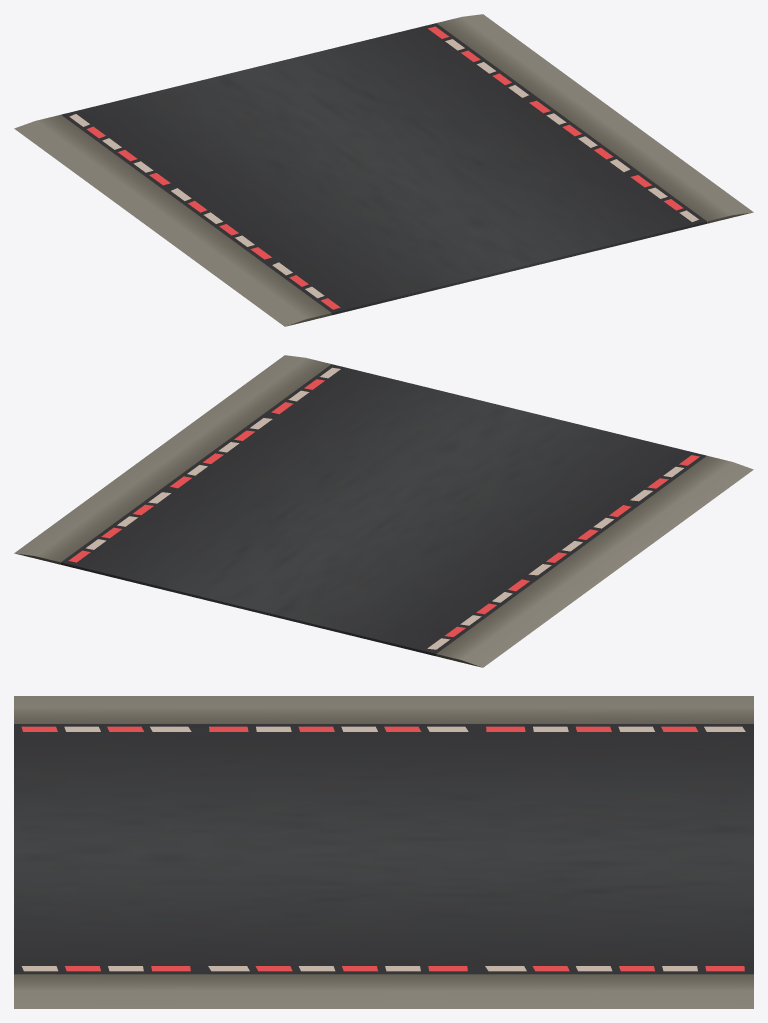
File: Straight_1D.fbx
The picture shows the model from 3 angles, top to bottom: view 1: azimuth 30°, elevation 25°; view 2: azimuth 150°, elevation 25°; view 3: azimuth 270°, elevation 25°; orthographic projection. The views are drawn at different scales.
Parts seen in each view (by area): view 1: Straight_1D; view 2: Straight_1D; view 3: Straight_1D.
Part boxes in pixels (left/top/right/bottom): Straight_1D: left=14, top=14, right=753, bottom=326; Straight_1D: left=14, top=355, right=753, bottom=667; Straight_1D: left=14, top=696, right=753, bottom=1008.
Size of the model in its own units: 2000 by 10.4 by 2000.
